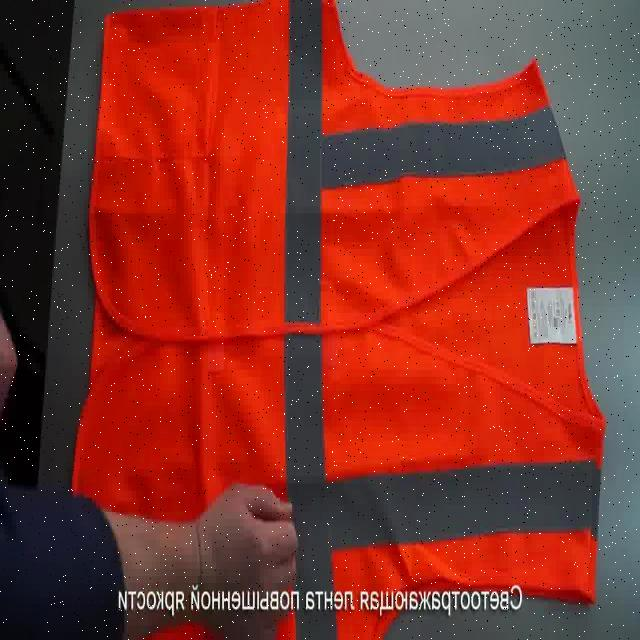Vest: (90, 9, 584, 583)
